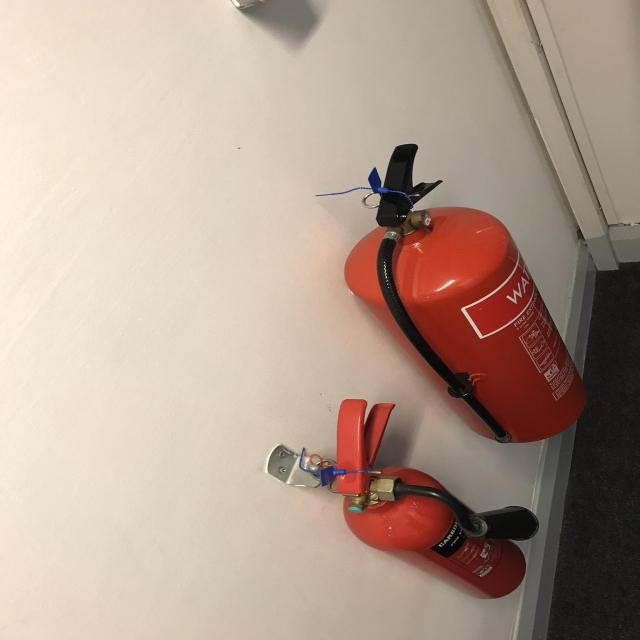fire_extinguisher: (340, 140, 594, 446), (328, 394, 542, 604)
